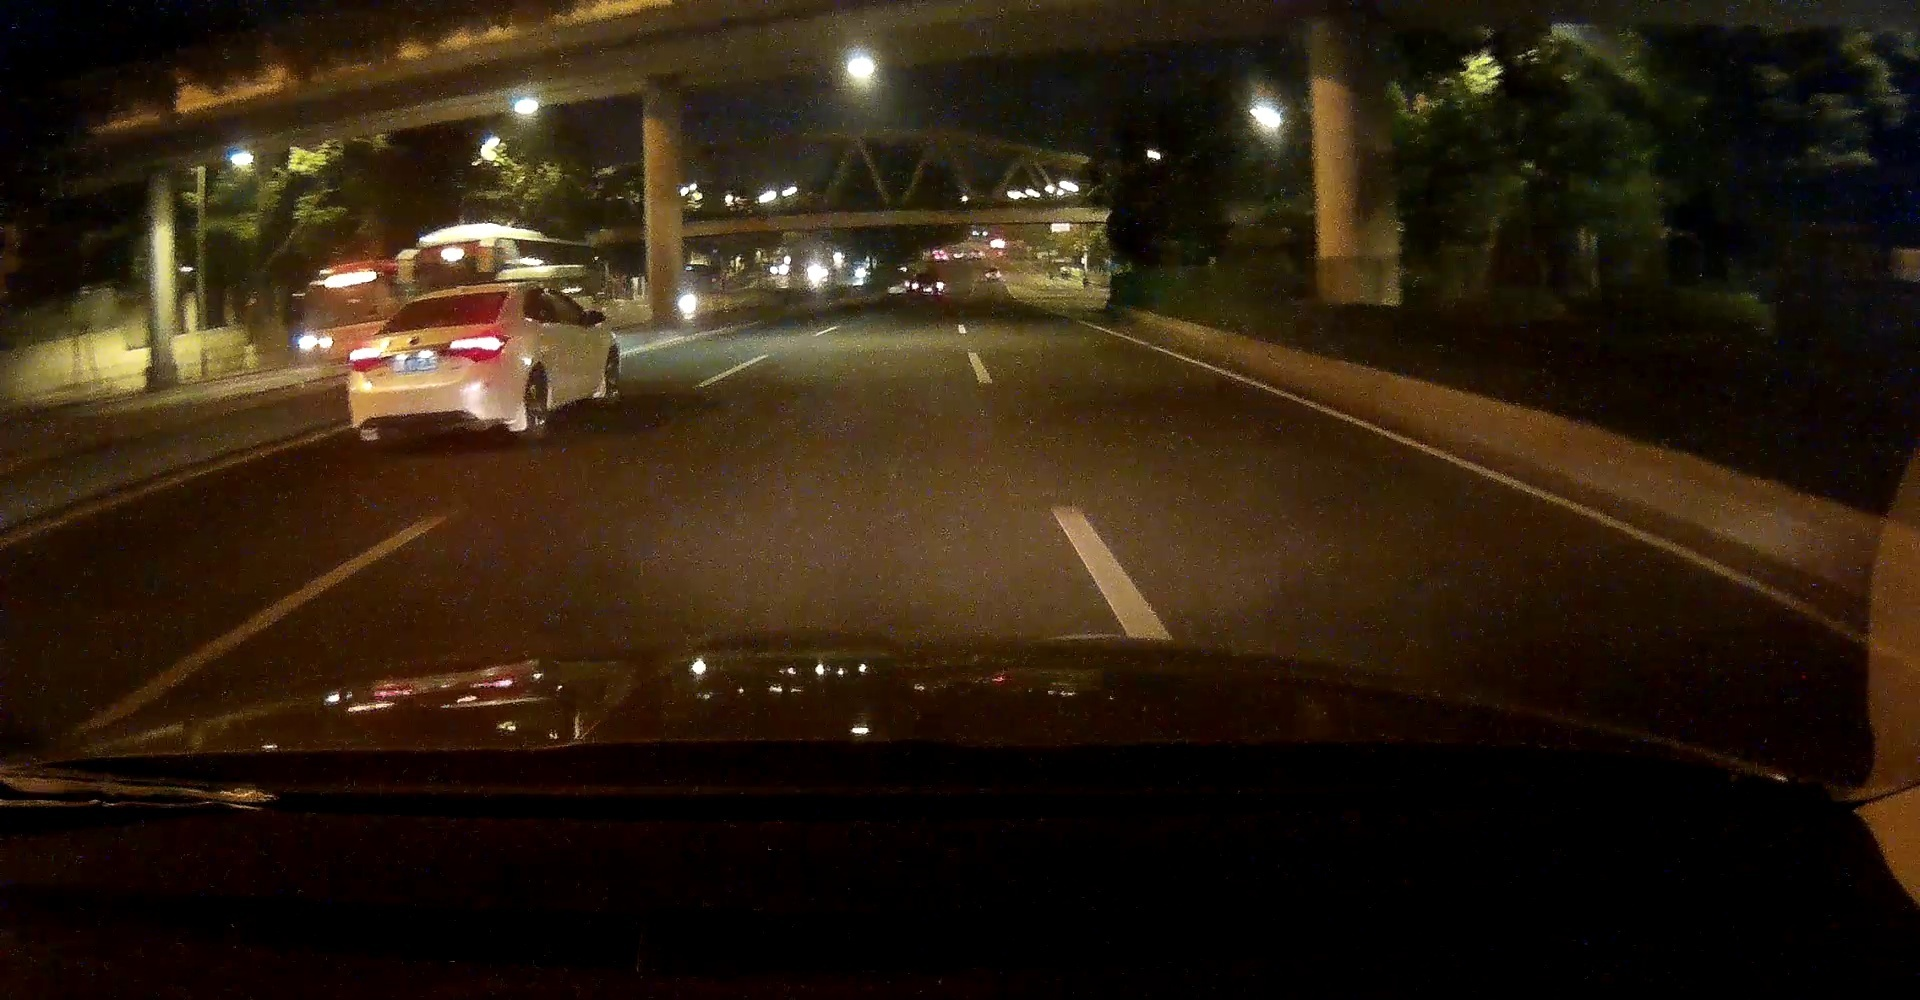L_light: (349, 346, 392, 373)
R_light: (444, 334, 508, 363)
T_light: (436, 296, 460, 301)
night-no: (348, 283, 512, 444)
